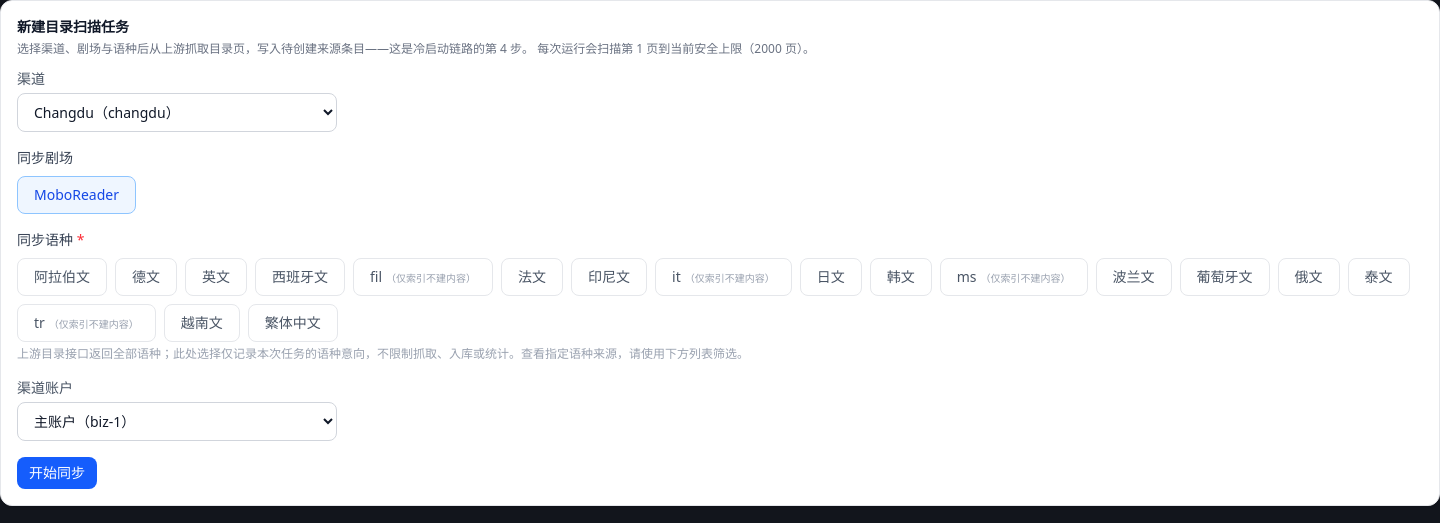
Test case: 默认态：渠道 → 剧场 → 语种 → 账户 依次生效 › 点击语种 chip 切换选中态，并体现在按钮文案上
Expected: the button "开始同步" is shown, [17, 457, 97, 489]
Click the button "英文". click: (216, 277)
box: [185, 258, 247, 296]
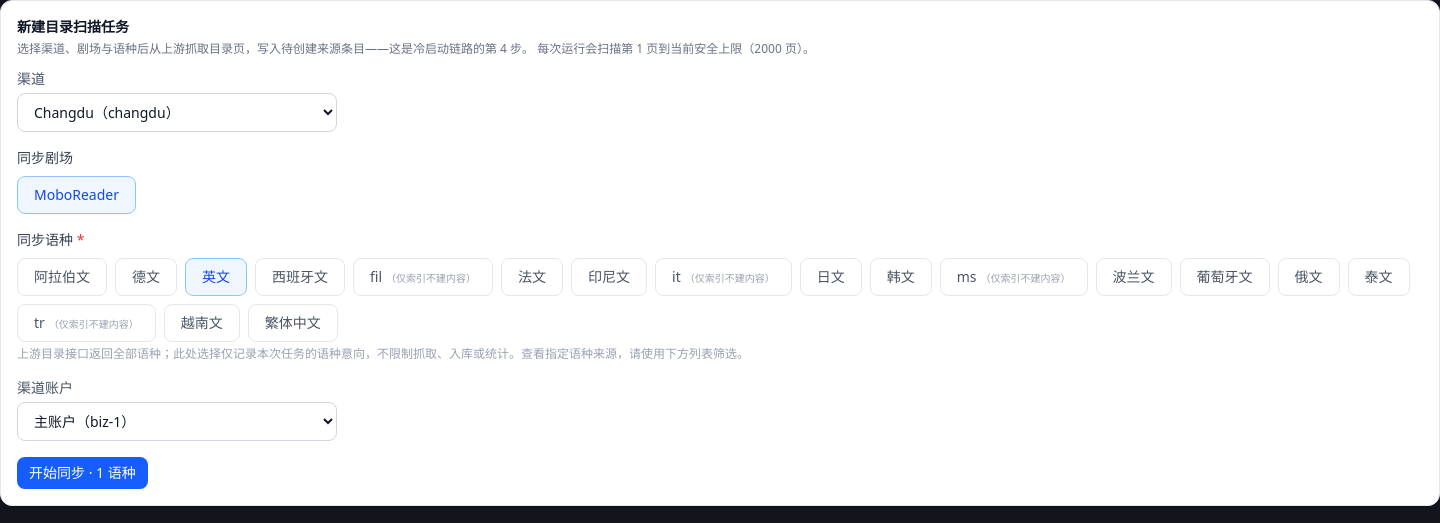
Expected: the button "开始同步 · 1 语种" is shown, [17, 457, 148, 489]
Click the button "日文". click: (831, 277)
box: [800, 258, 862, 296]
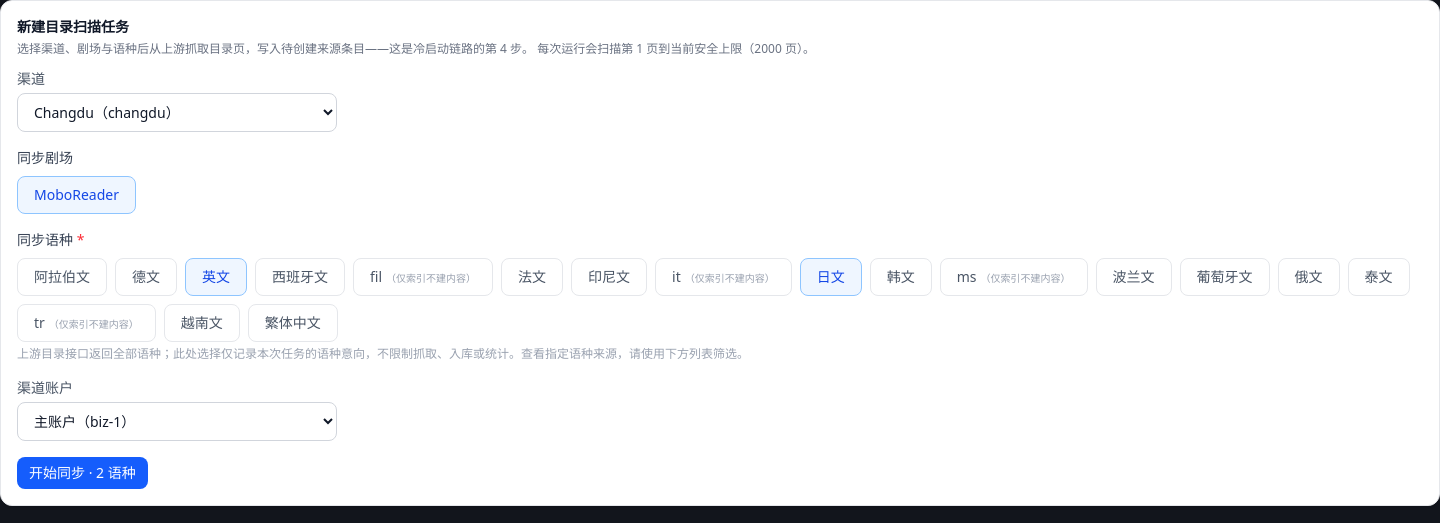
Expected: the button "开始同步 · 2 语种" is shown, [17, 457, 148, 489]
Click the button "英文". click: (216, 277)
box: [185, 258, 247, 296]
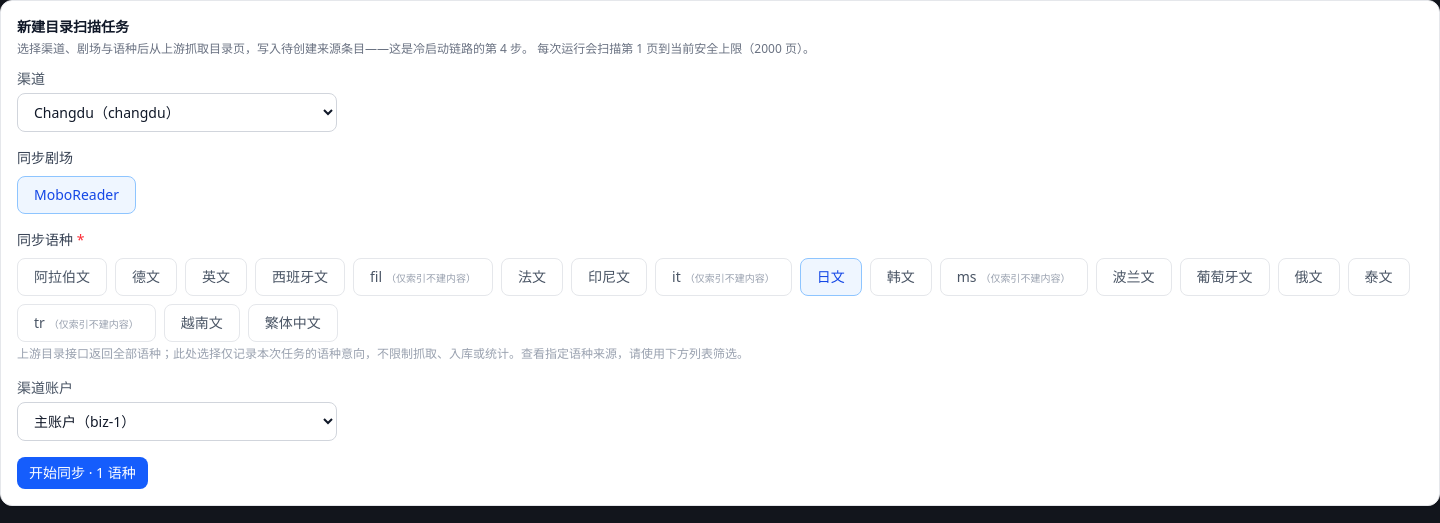
Expected: the button "开始同步 · 1 语种" is shown, [17, 457, 148, 489]
